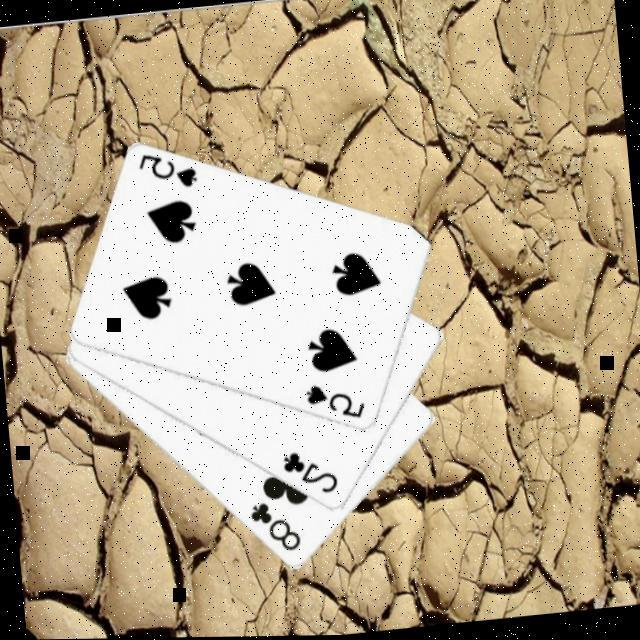2C: (278, 447, 342, 503)
5S: (134, 148, 202, 198), (302, 380, 368, 430)
8C: (243, 498, 304, 561)
